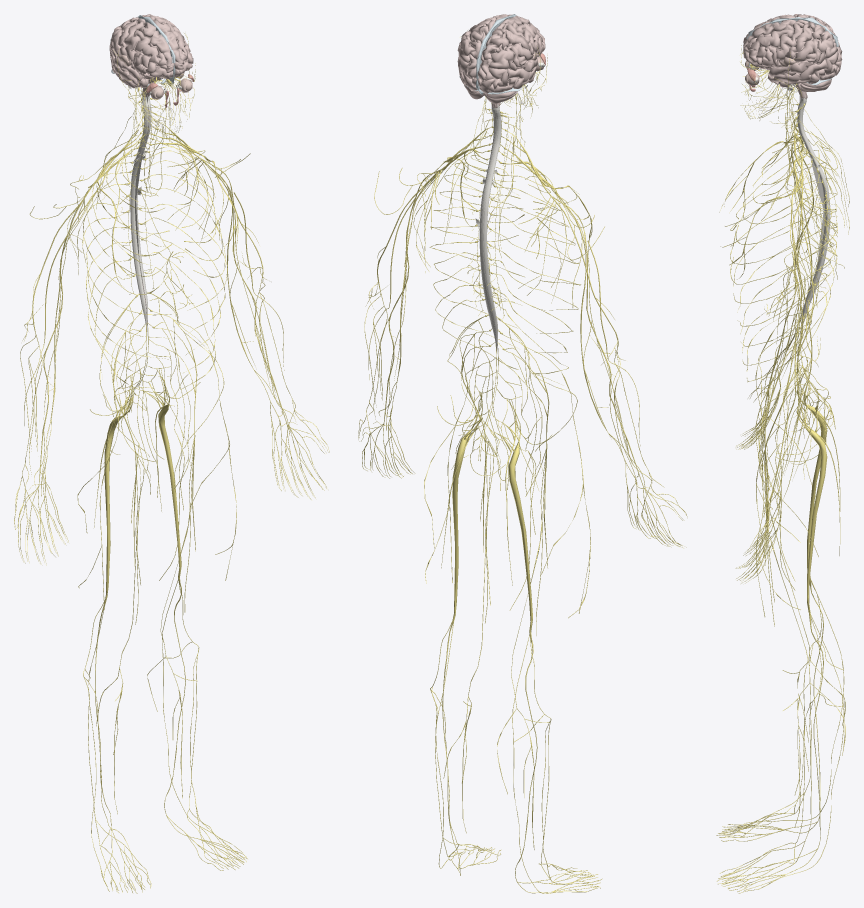
File: Nervous_system_Sense_organs.glb
The picture shows the model from 3 angles, left to right: view 1: azimuth 30°, elevation 25°; view 2: azimuth 150°, elevation 25°; view 3: azimuth 270°, elevation 25°; orthographic projection. The views are drawn at different scales.
Parts seen in each view (by area): view 1: Intercostal nerves.r, Spinal dura, Intercostal nerves.l, Sciatic nerve.r, Sciatic nerve.l; view 2: Spinal dura, Intercostal nerves.l, Intercostal nerves.r, Sciatic nerve.r, Sciatic nerve.l, Saphenous nerve.r; view 3: Spinal dura, Intercostal nerves.l, Intercostal nerves.r, Sciatic nerve.l, Sciatic nerve.r, Middle frontal gyrus.l, Saphenous nerve.l, Saphenous nerve.r, Lateral femoral cutaneous nerve.l, Middle temporal gyrus.l, Median nerve.l, Precentral gyrus.l (+15 smaller).
Boxes of the visible parts, box(x1,y1,x2,y2) form: Intercostal nerves.r: box(82, 148, 173, 392); Spinal dura: box(130, 95, 151, 335); Intercostal nerves.l: box(142, 143, 227, 389); Sciatic nerve.r: box(104, 376, 132, 595); Sciatic nerve.l: box(148, 369, 181, 577); Spinal dura: box(475, 103, 501, 353); Intercostal nerves.l: box(429, 155, 524, 369); Intercostal nerves.r: box(491, 163, 580, 374); Sciatic nerve.r: box(497, 399, 532, 632); Sciatic nerve.l: box(452, 392, 481, 613); Saphenous nerve.r: box(497, 453, 545, 849); Spinal dura: box(797, 96, 830, 330); Intercostal nerves.l: box(730, 153, 837, 382); Intercostal nerves.r: box(730, 140, 837, 371); Sciatic nerve.l: box(796, 383, 827, 612); Sciatic nerve.r: box(796, 370, 827, 576); Middle frontal gyrus.l: box(745, 29, 793, 62); Saphenous nerve.l: box(761, 450, 845, 827); Saphenous nerve.r: box(761, 423, 845, 795); Lateral femoral cutaneous nerve.l: box(755, 339, 818, 616); Middle temporal gyrus.l: box(773, 59, 828, 82); Median nerve.l: box(769, 198, 802, 508); Precentral gyrus.l: box(776, 21, 804, 61).
Size of the model in its own units: 0.6675 by 1.7 by 0.2424.
